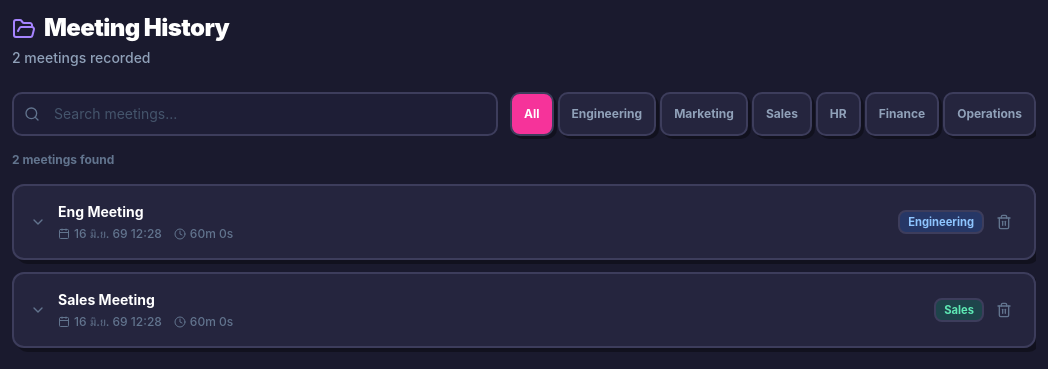
Test: MeetingHistory Component › Department Filter › should show all meetings when "All" is selected
First filter to Engineering
Click the button "Engineering": (607, 114) [558,92,656,136]
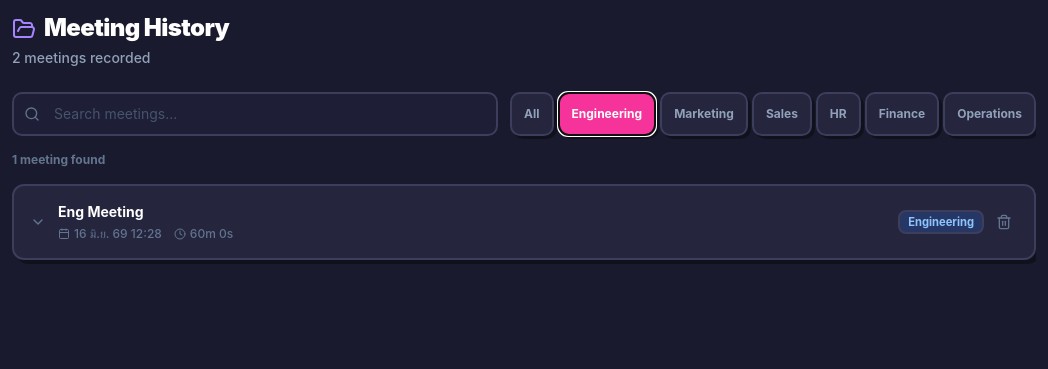
Then back to All
Click the button "All": (532, 114) [510,92,554,136]
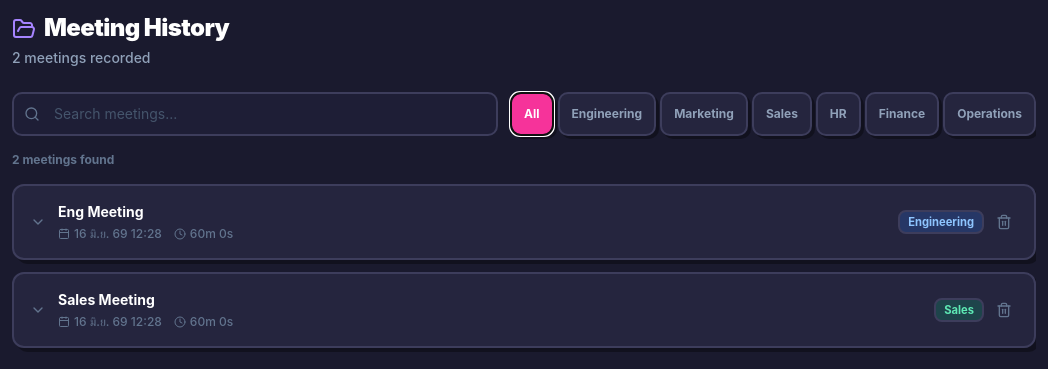
Expected: the text "Eng Meeting" is shown, [58,203,144,220]
Result: the text "Sales Meeting" is shown at [58,291,155,308]
